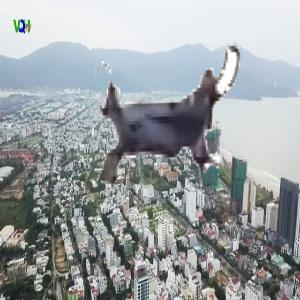drone: (73, 28, 259, 214)
